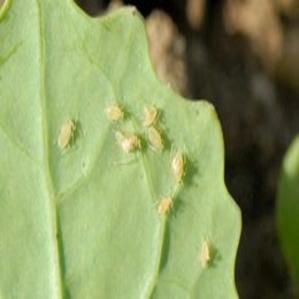Green peach aphid: (48, 104, 94, 160), (132, 111, 171, 156), (140, 185, 182, 226), (109, 124, 146, 163), (162, 144, 194, 188), (189, 234, 221, 277), (95, 88, 130, 127), (138, 87, 168, 131)
